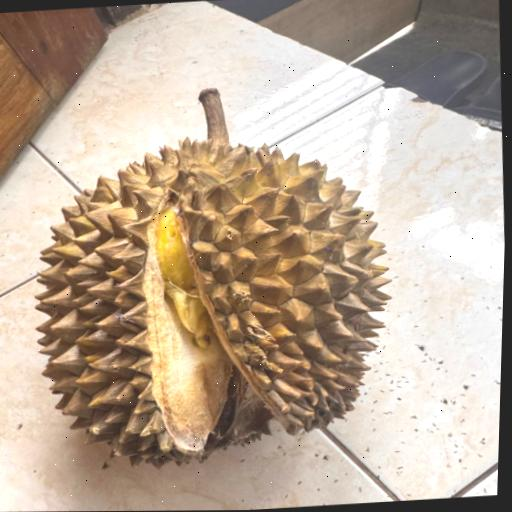rot: (0, 61, 429, 510)
